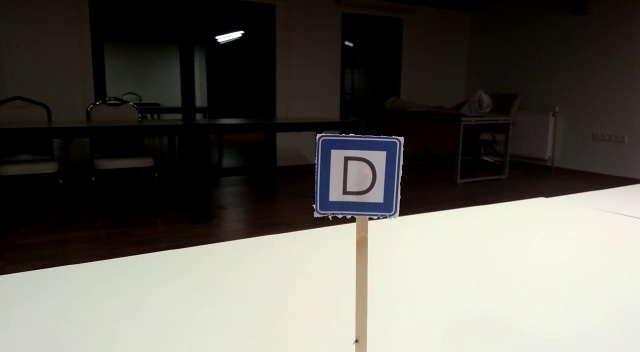durak: (313, 137, 401, 217)
